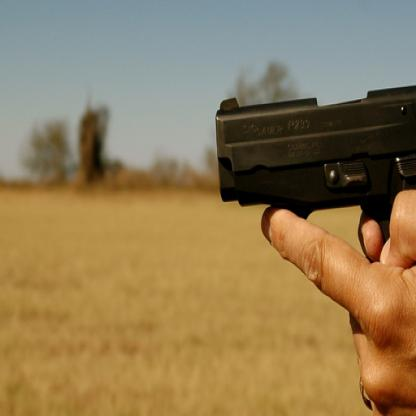gun: (212, 66, 415, 242)
